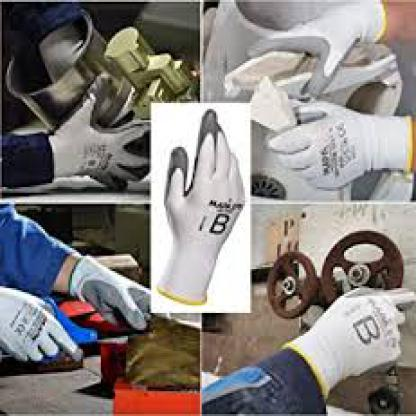with_gloves: (156, 109, 246, 307), (279, 284, 414, 403), (245, 2, 387, 103), (265, 99, 414, 193), (47, 74, 151, 191), (1, 286, 84, 366), (68, 254, 152, 332)
